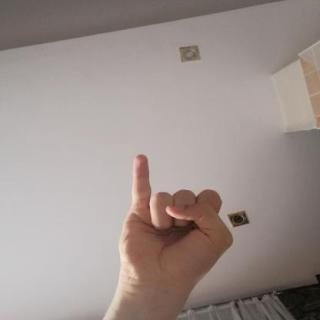MEEM: (104, 145, 245, 292)
